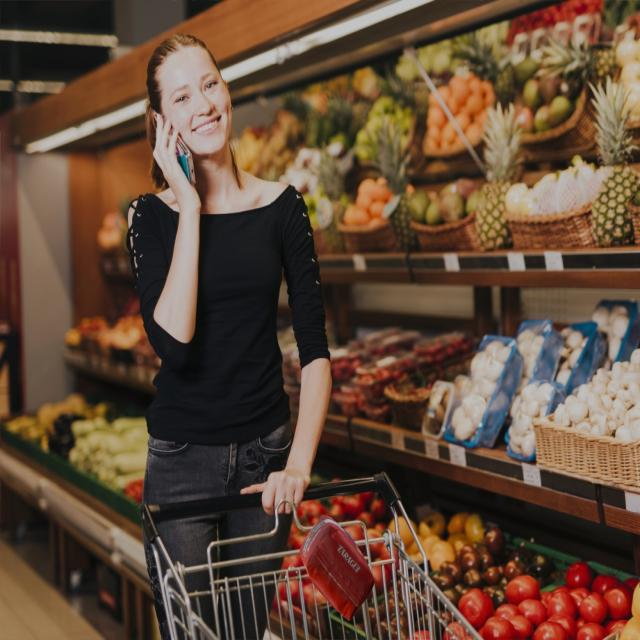mate bag: (304, 514, 376, 616)
